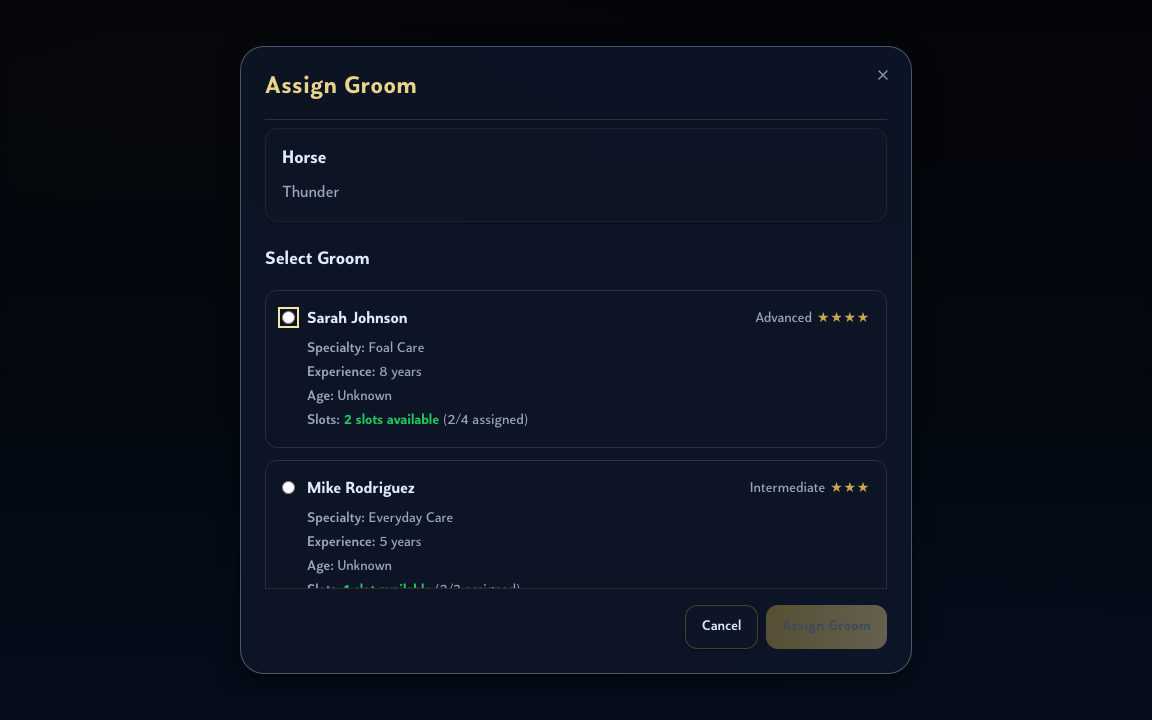
AssignGroomModal Component › Assignment Options › a refused assignment brings the dialog back with the reason and the choice kept
Click the radio button labelled "Sarah Johnson".
click(288, 318)  # box [282,311,295,324]
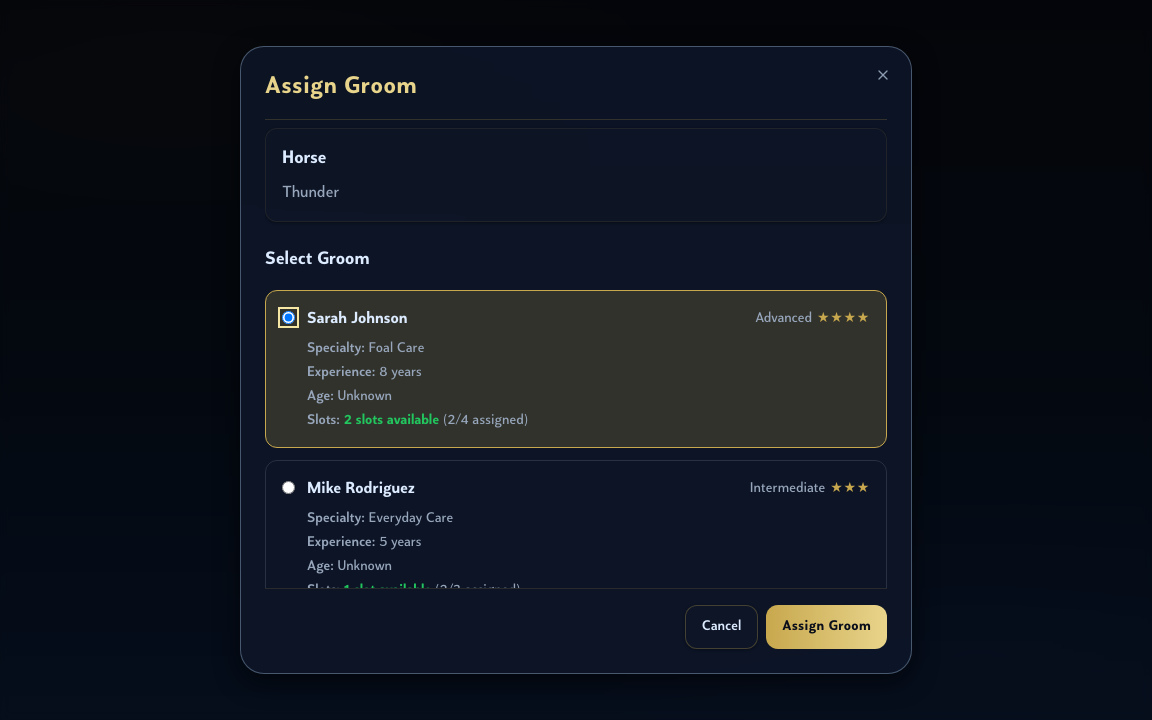
Click the button "Assign Groom".
click(827, 627)  # box [766,605,887,649]
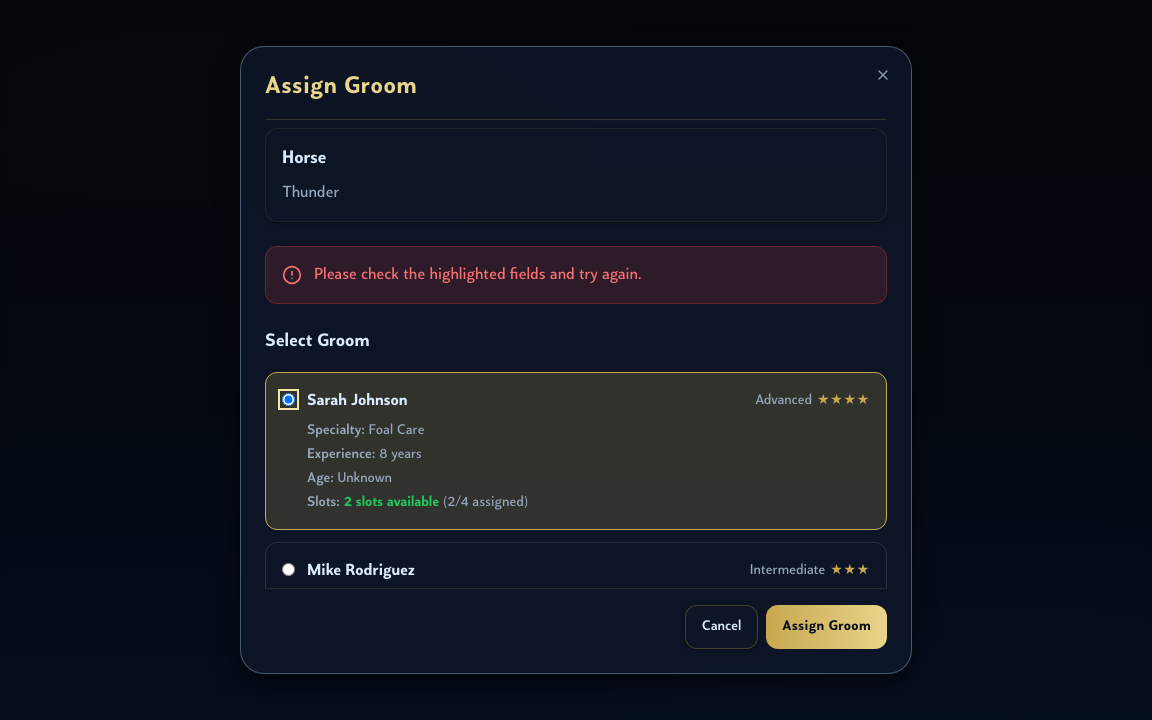
Expected: the radio button labelled "Sarah Johnson" is checked, [282,393,295,406]
Expected: the message "Please check the highlighted fields and try again." is shown, [265,246,887,304]
